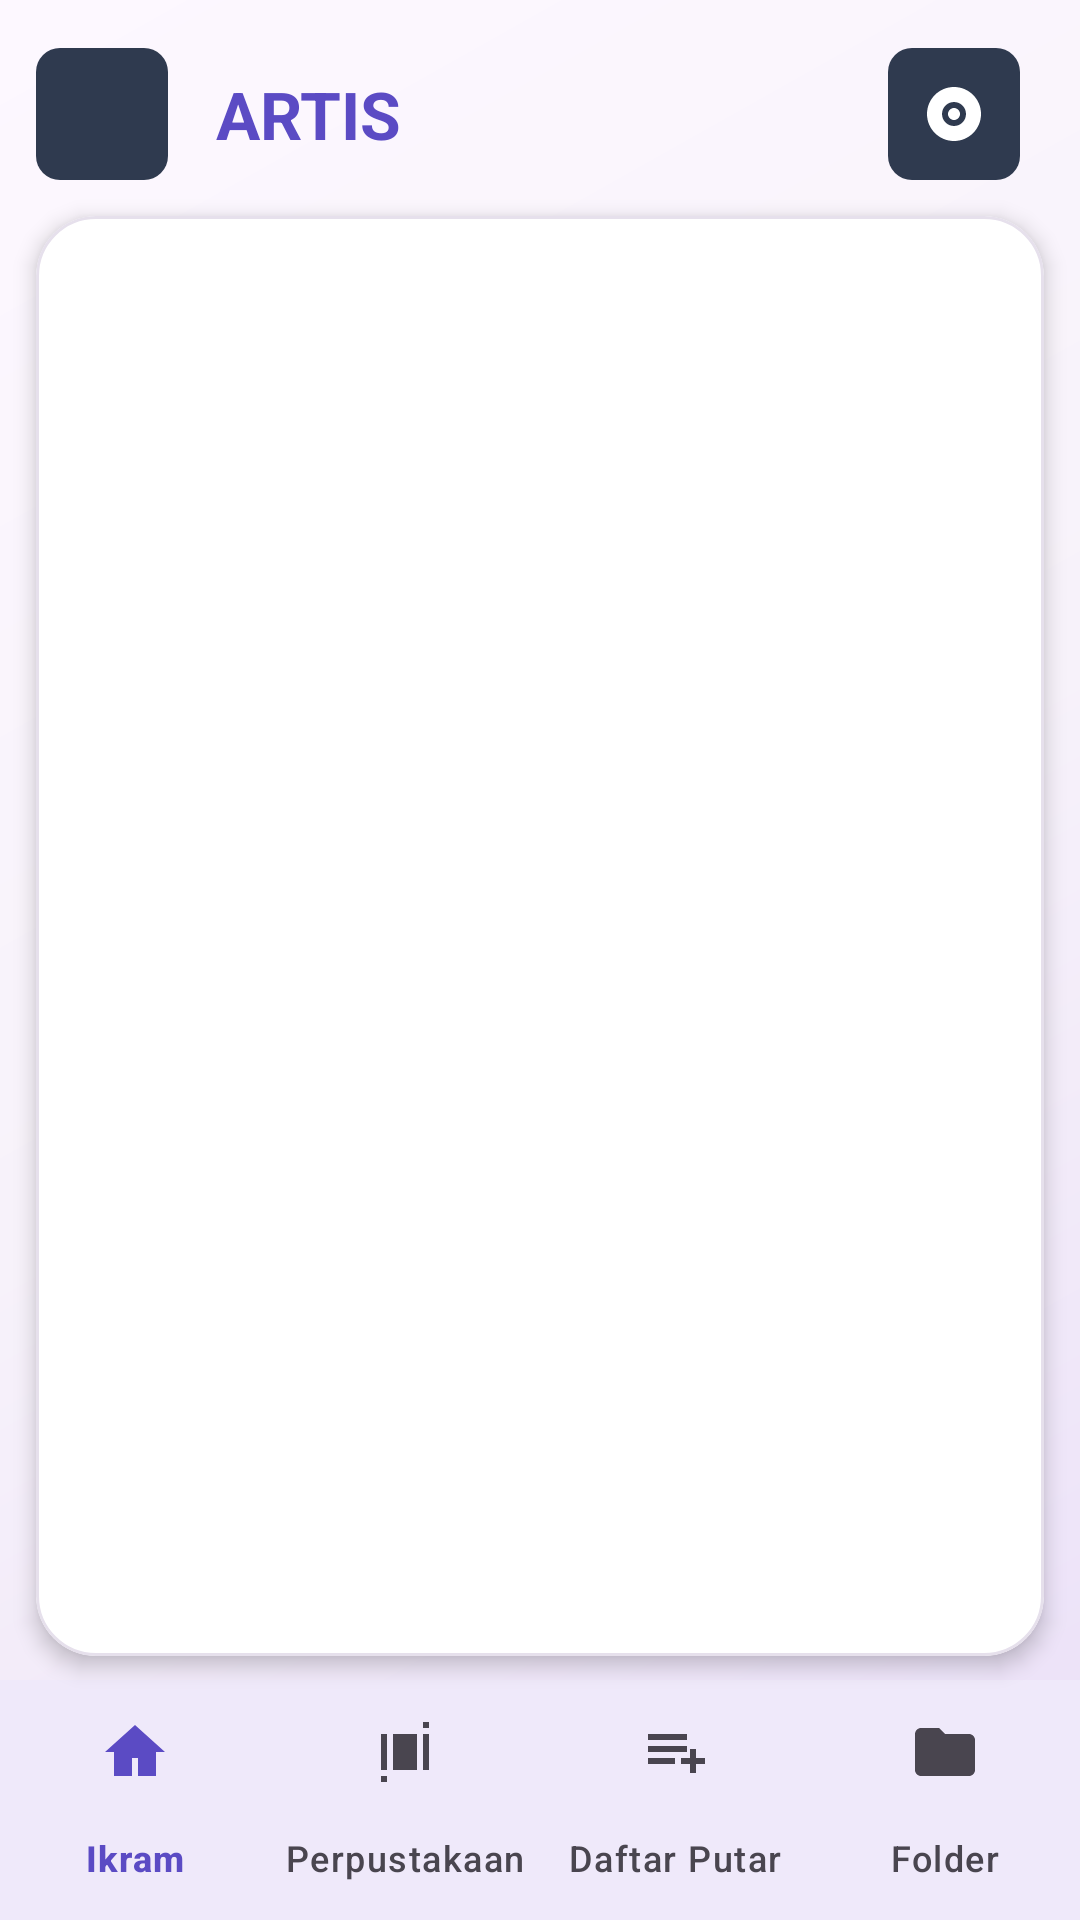

Screen size 1080w x 1920h. Icon name, then its center in pixels as [x,y]:
Buka Album: [954,114]
